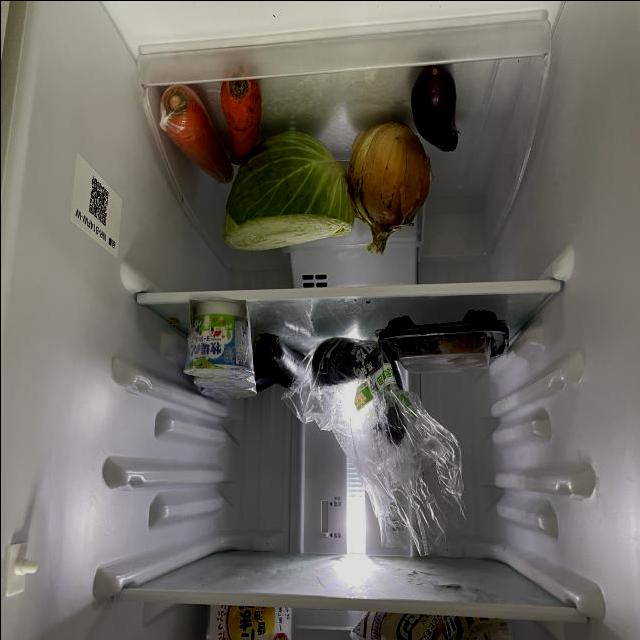cabbage: (226, 131, 356, 253)
carrot: (153, 85, 233, 187), (217, 76, 261, 167)
eggplant: (360, 338, 408, 444), (414, 60, 460, 155), (257, 331, 313, 391), (309, 339, 377, 387), (253, 365, 279, 393)
onion: (345, 120, 431, 250)
